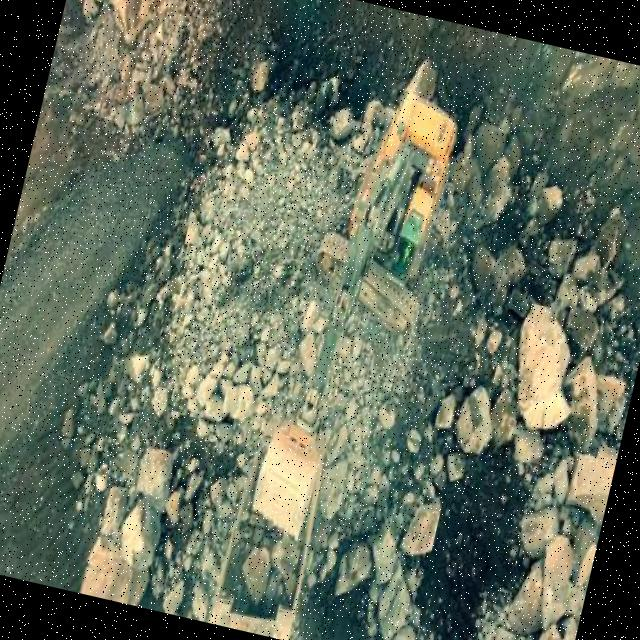Dump Truck: (203, 435, 333, 640)
Excavator: (243, 71, 480, 562)
